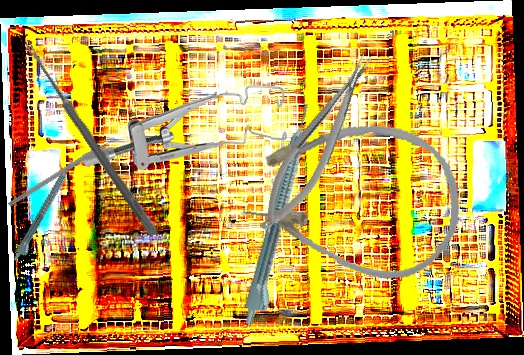Cannula: (233, 102, 473, 291)
Chopper: (6, 132, 127, 214)
Handpiece: (239, 101, 325, 329), (11, 158, 80, 265)
Needle Holder: (245, 48, 390, 240)
Speculum: (82, 82, 289, 173)
Surgical Spoon: (21, 39, 160, 238)
